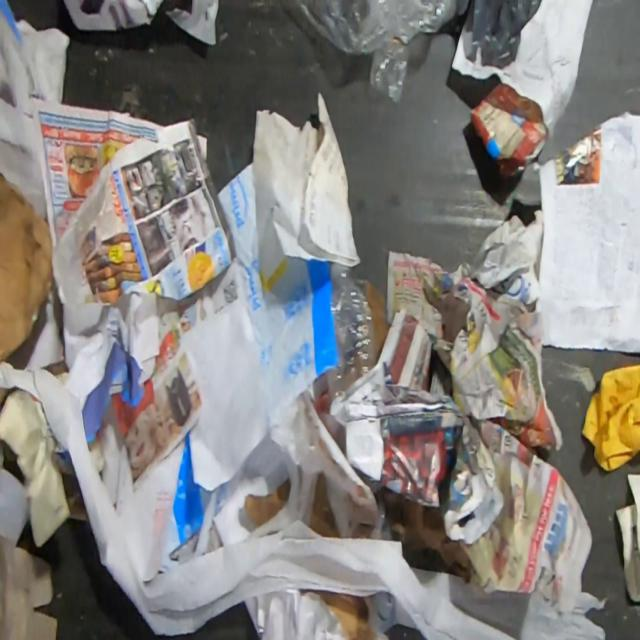cardboard: (0, 170, 56, 364), (301, 589, 379, 639), (244, 477, 290, 528), (308, 471, 342, 539), (365, 279, 389, 364), (0, 388, 7, 407)
rigid_plastic: (325, 260, 376, 407)
soft_plastic: (209, 158, 342, 434), (292, 0, 470, 105), (159, 429, 211, 574), (460, 0, 543, 71)
